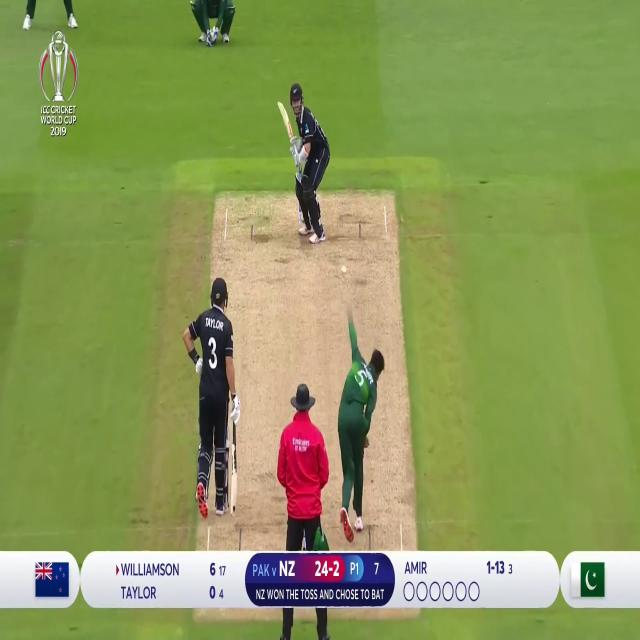bat: (276, 102, 292, 149), (229, 437, 238, 518)
toe: (230, 509, 238, 517)
